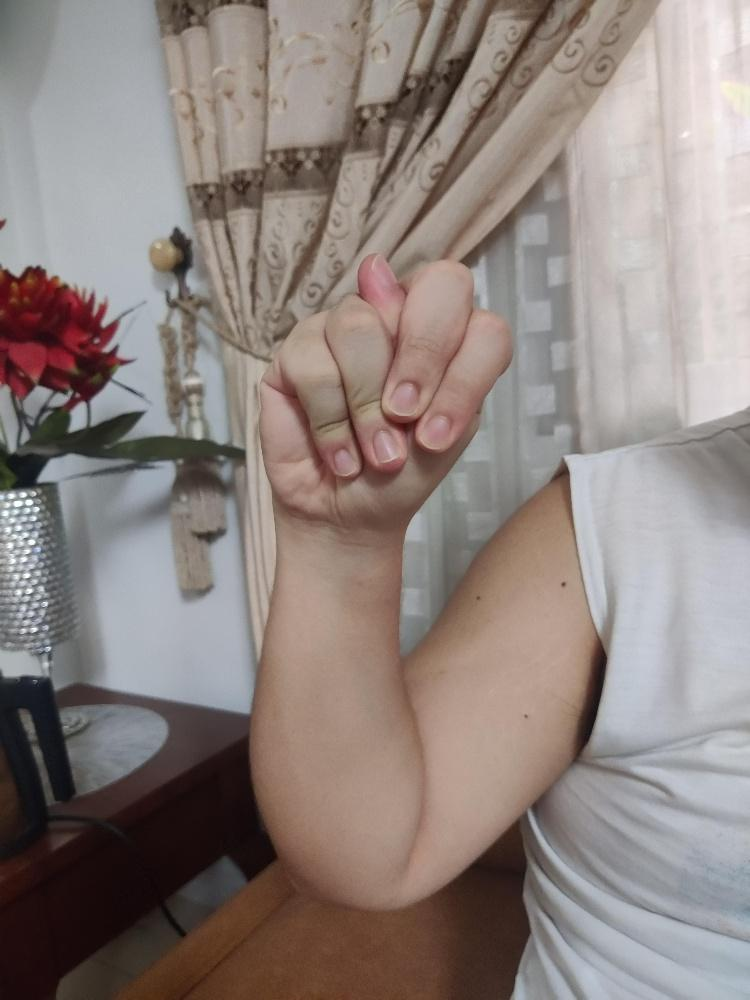n: (255, 250, 514, 528)
